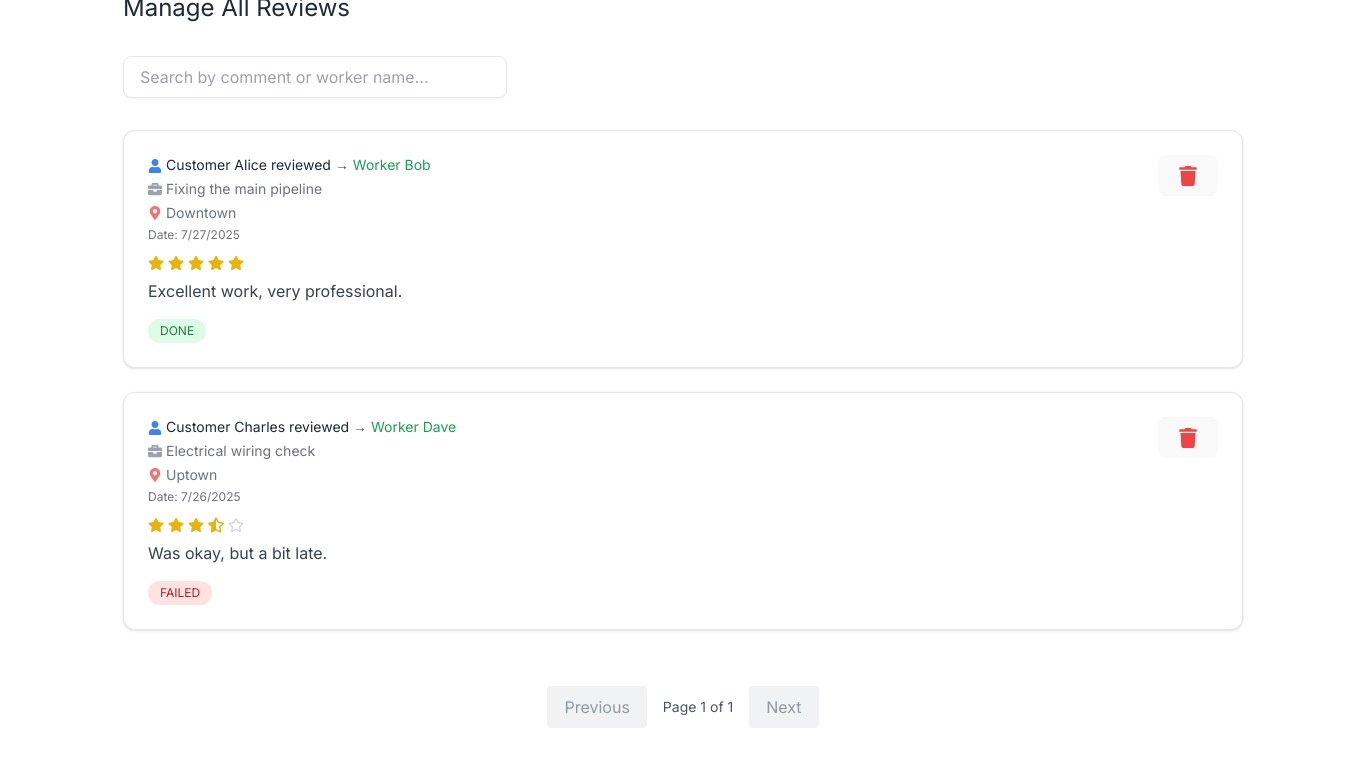
Test: AdminReviewManagement › opens delete modal and cancels the deletion
(page scrolled)
// Open the modal
Click the button titled "Delete Review" in the row of "Worker Bob": (1188, 176) [1158,155,1218,196]
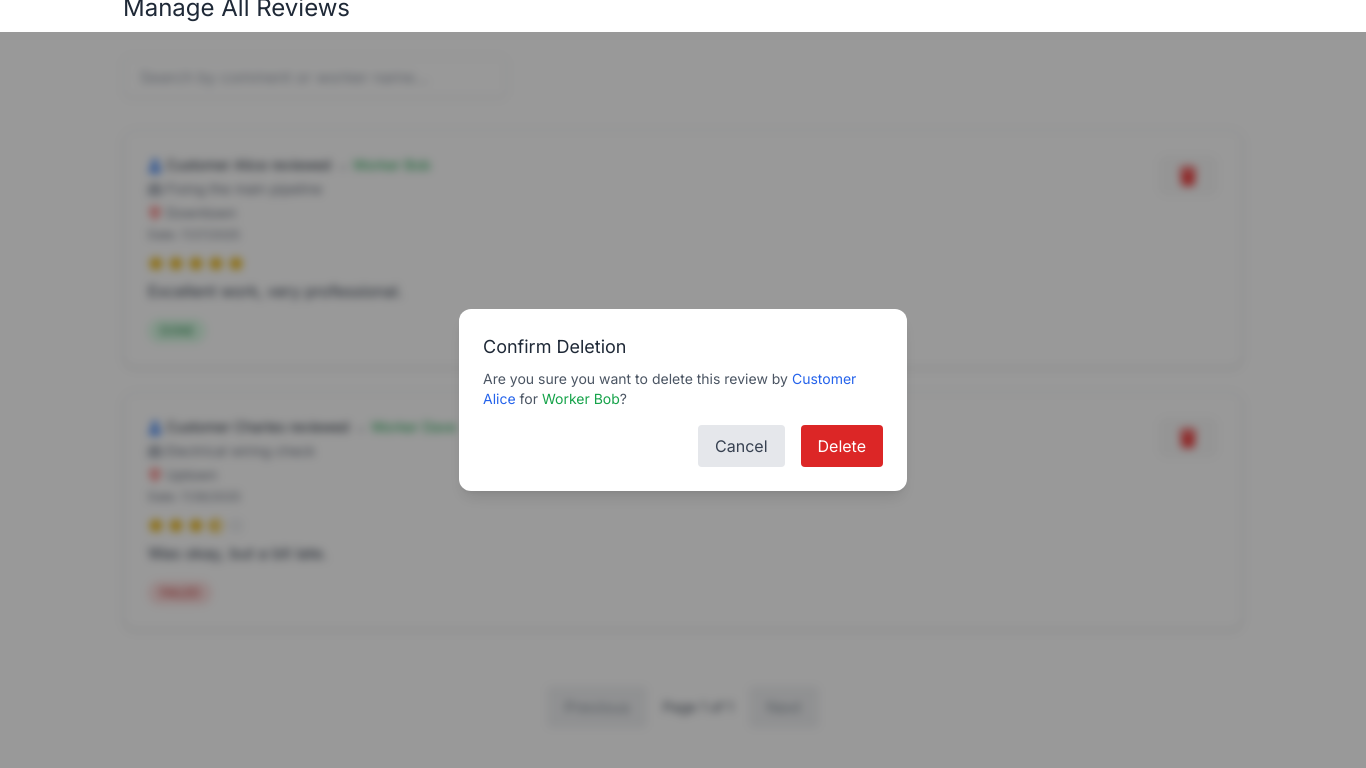
// Click the cancel button
Click the button "Cancel": (741, 446) [698,425,784,467]
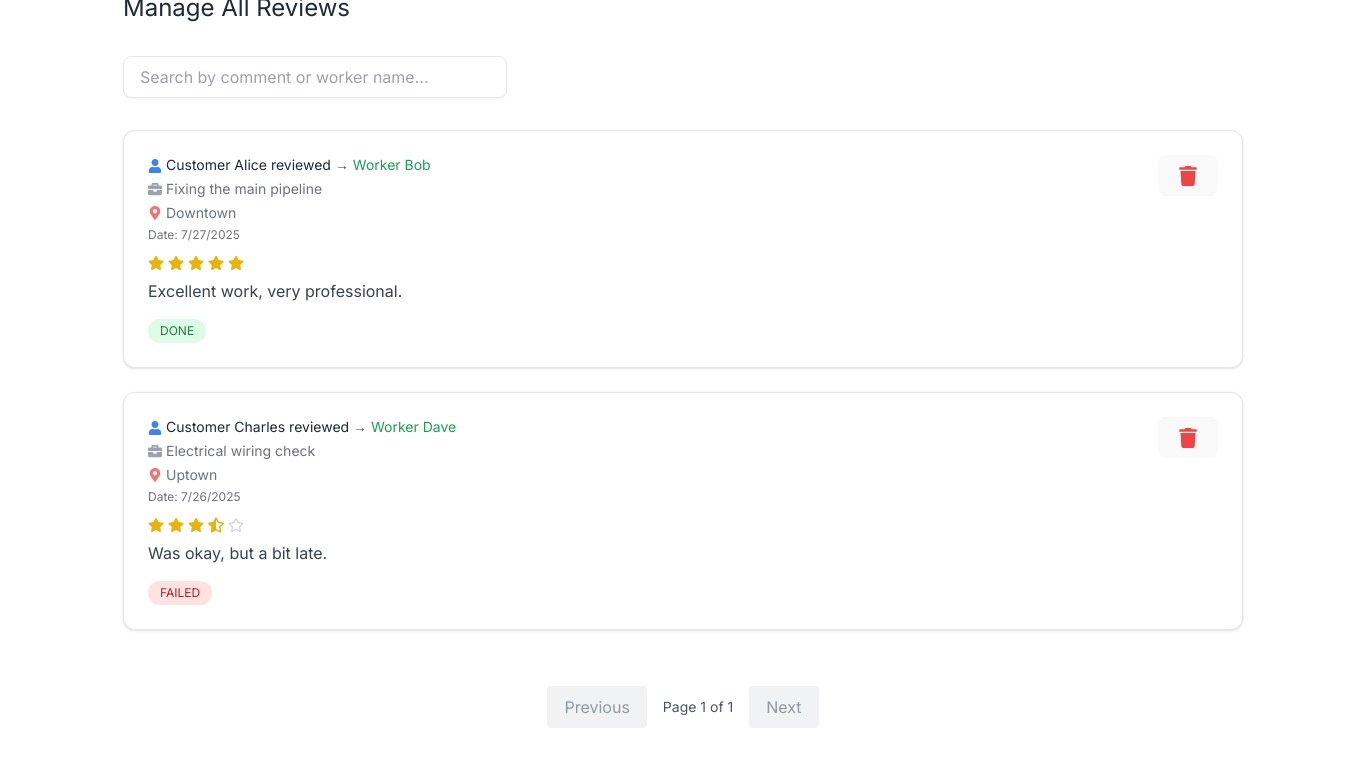
Expected: the heading "Confirm Deletion" is gone
